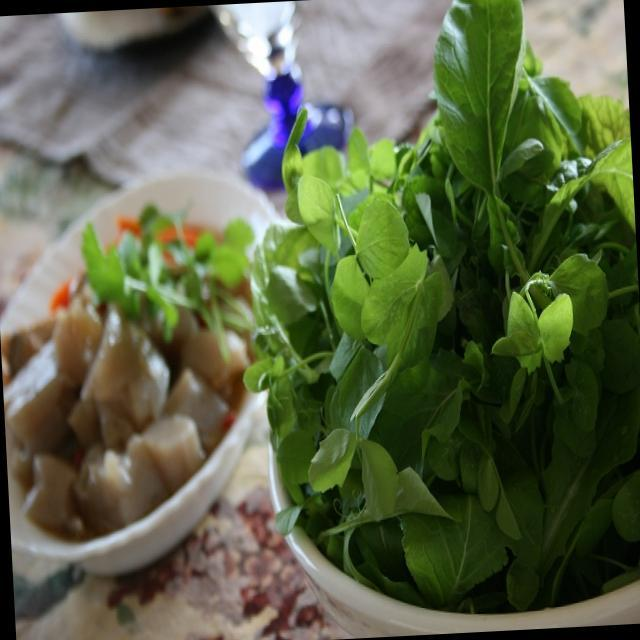Green Salad: (235, 8, 640, 580)
